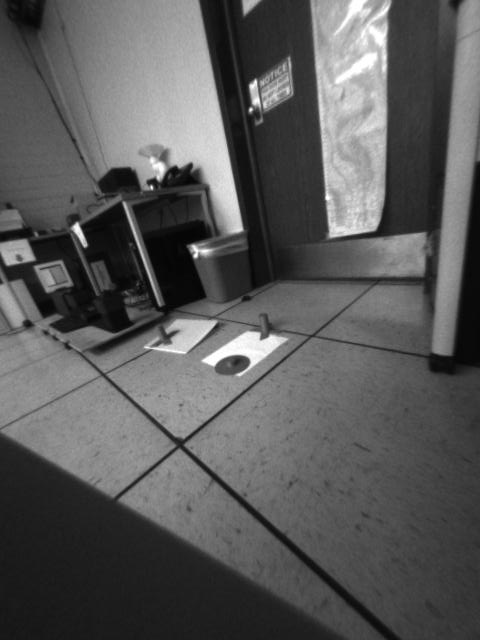X: (149, 322, 181, 349), (248, 314, 280, 339)
